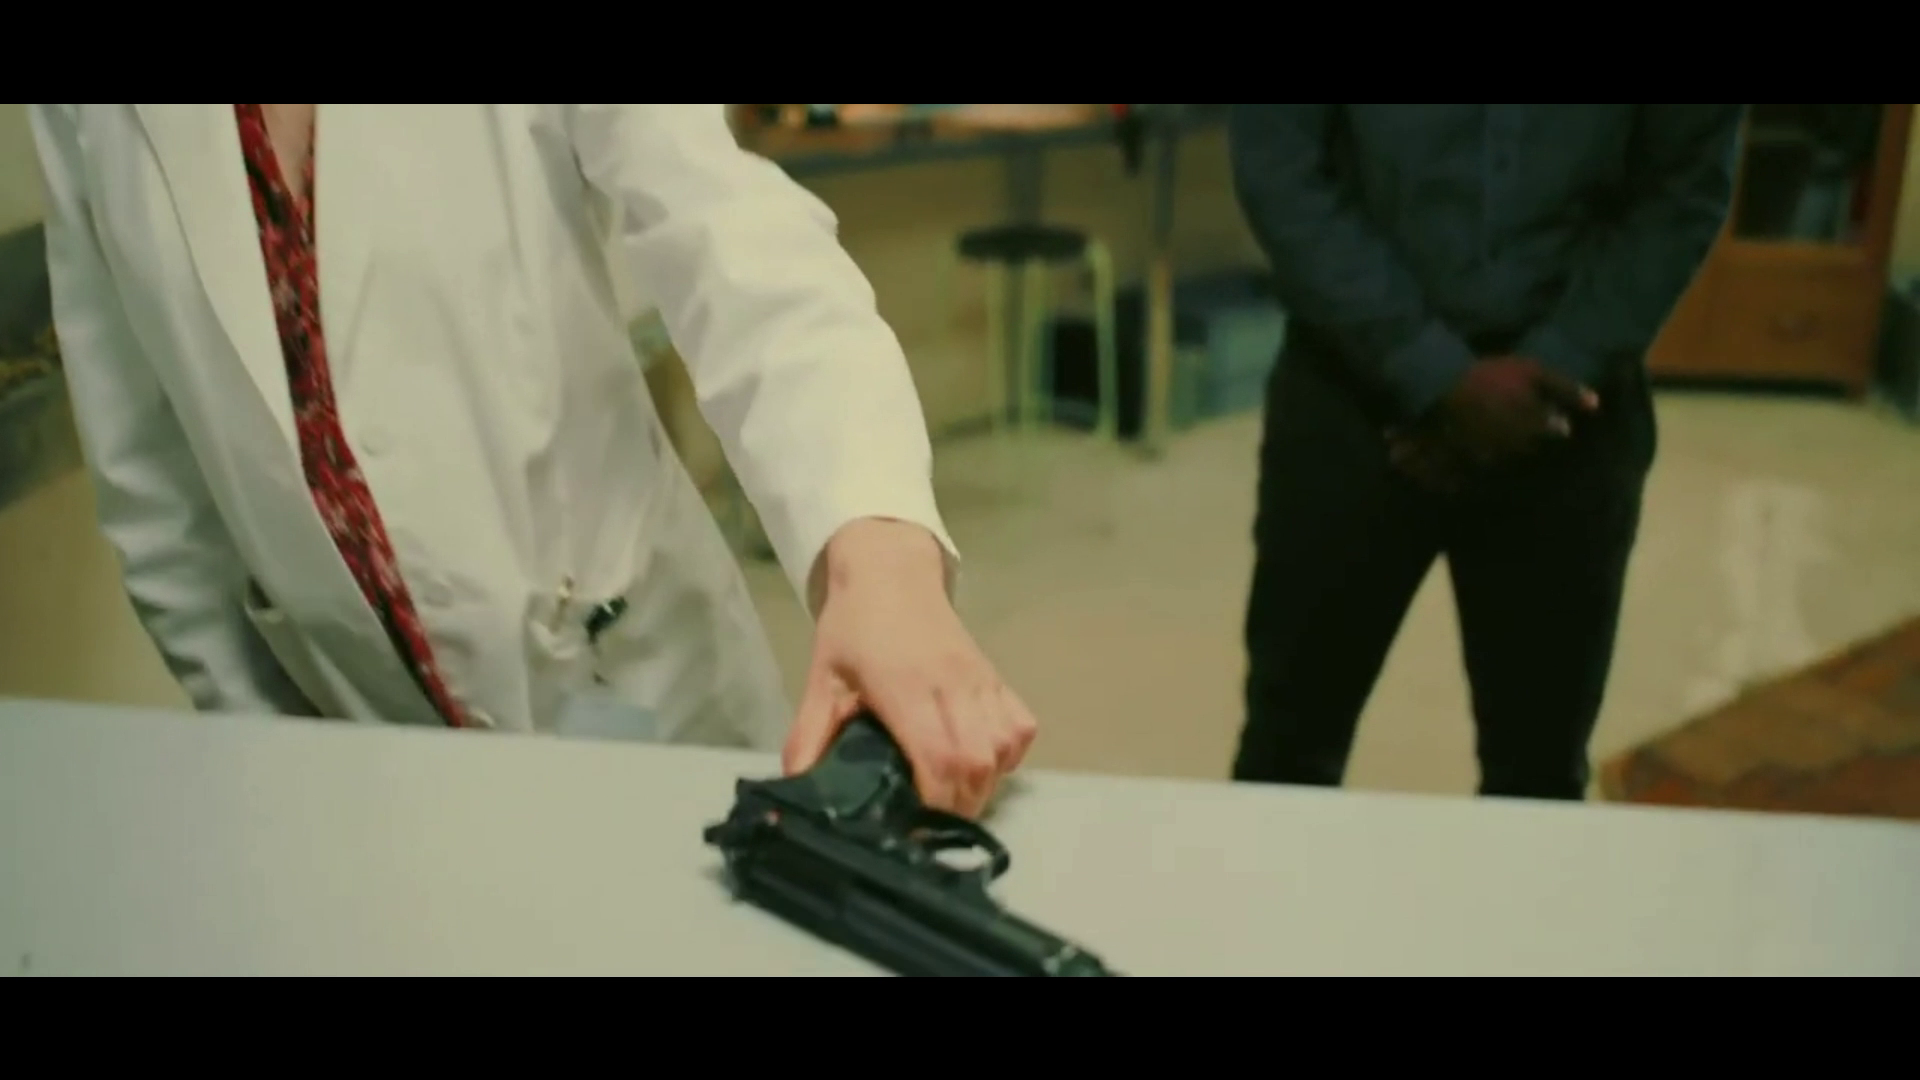SIG P226: (704, 717, 1124, 975)
